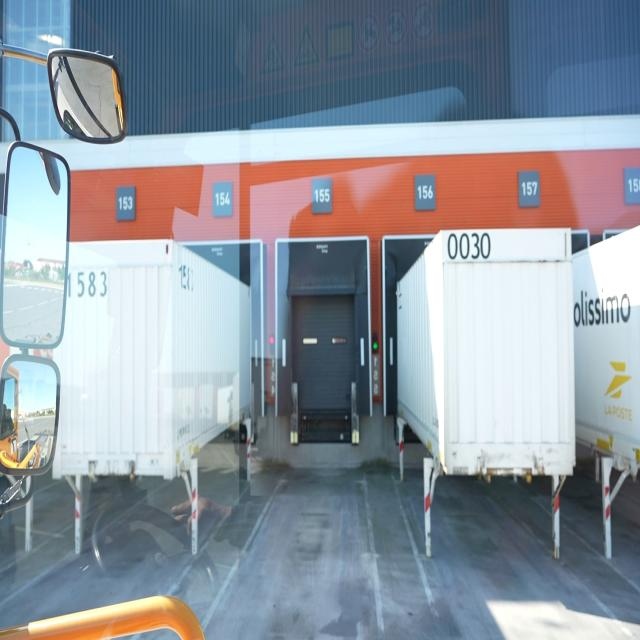Code: (62, 266, 111, 303), (443, 231, 492, 264)
